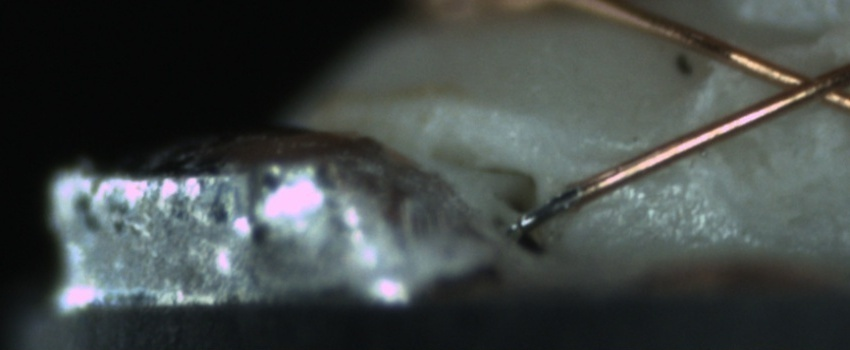CL: (748, 53, 850, 117)
TS: (515, 185, 583, 234)
TTCW: (512, 174, 604, 236)
